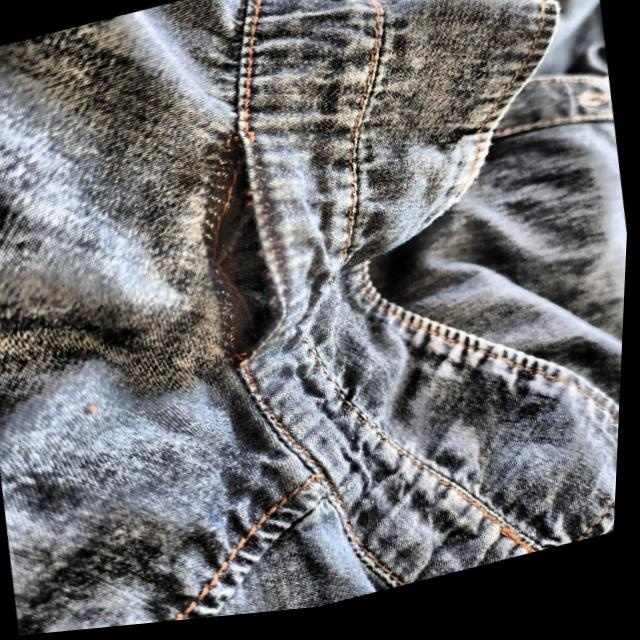seam: (155, 108, 318, 390)
